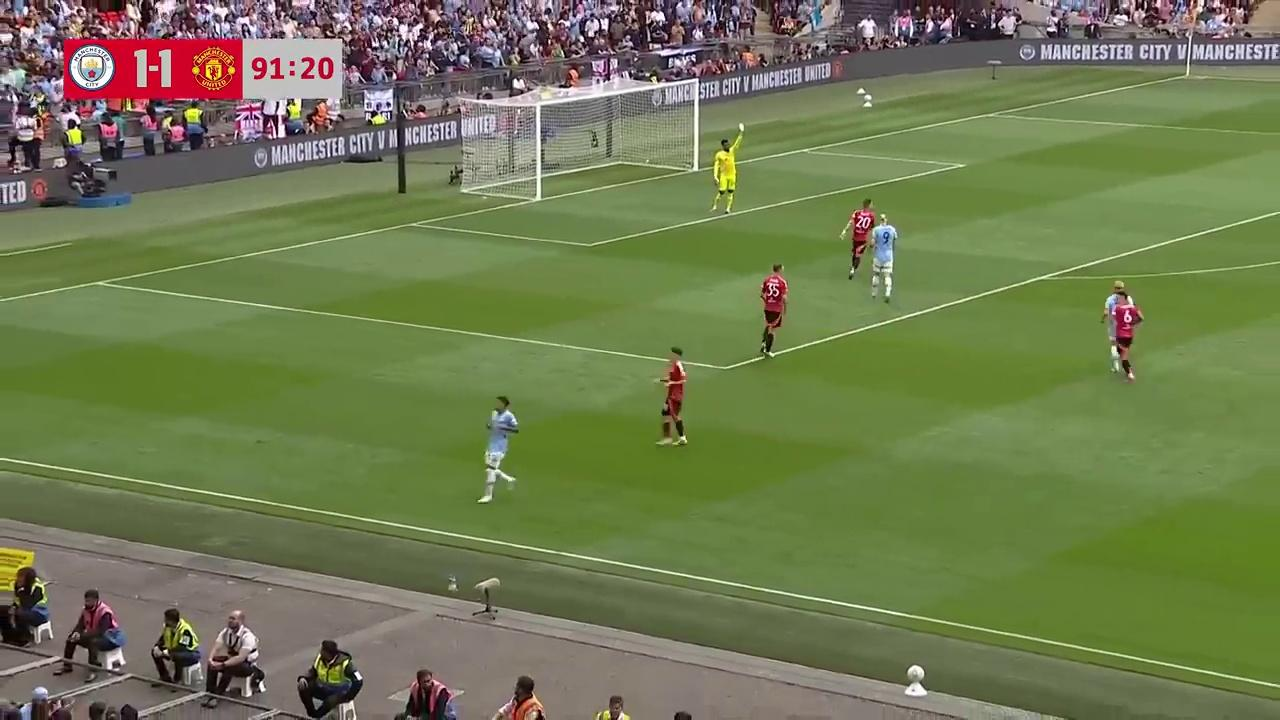player: (478, 396, 519, 502), (653, 347, 688, 448), (1112, 292, 1145, 381), (758, 263, 788, 358), (867, 214, 898, 302), (840, 198, 873, 279), (1103, 276, 1128, 359), (710, 139, 737, 215)
